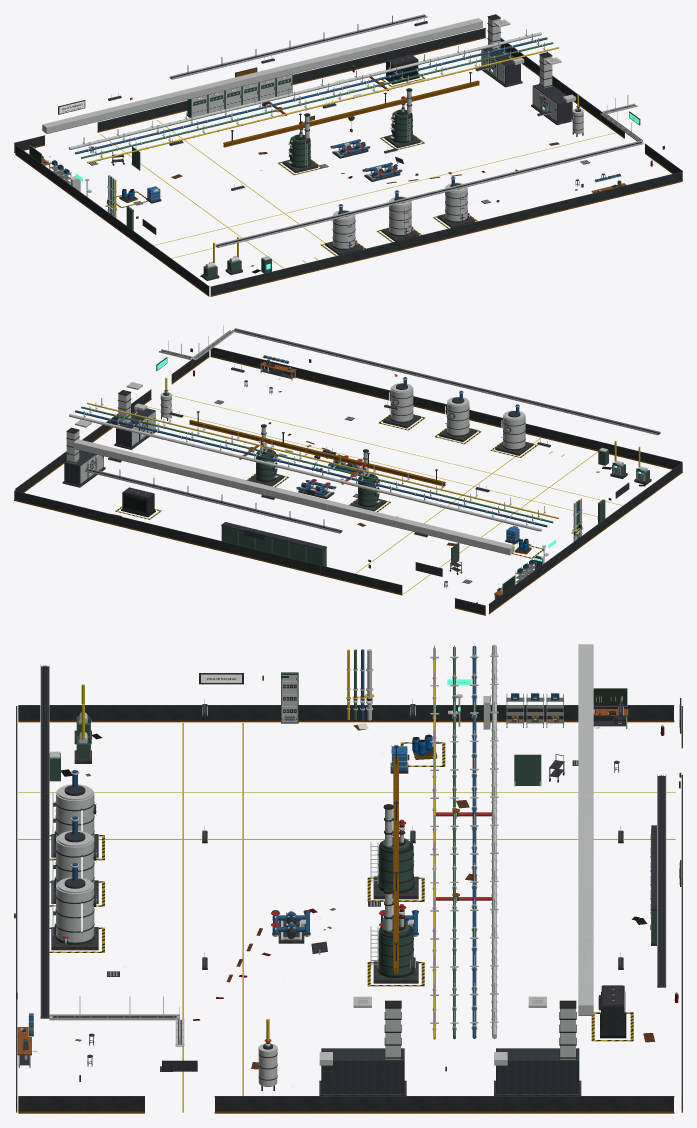
File: maintenance_art.glb
The picture shows the model from 3 angles, top to bottom: view 1: azimuth 30°, elevation 25°; view 2: azimuth 150°, elevation 25°; view 3: azimuth 270°, elevation 25°; orthographic projection. The views are drawn at different scales.
Visible parts, largest first — view 1: MT_Wainscot_TRIM, MT_HVAC_Duct, MT_CableTray_South_CABLE, MT_AHU_02, MT_Monorail_TRIM, MT_AHU_01, MT_CableTray_CABLE, MT_FloorLines_FLOOR_LINE, MT_WaterTank_01, MT_Boiler_01, MT_Boiler_02, MT_WaterTank_03 (+13 smaller); view 2: MT_Wainscot_TRIM, MT_HVAC_Duct, MT_CableTray_South_CABLE, MT_Monorail_TRIM, MT_AHU_02, MT_FloorLines_FLOOR_LINE, MT_AHU_01, MT_CableTray_CABLE, MT_WaterTank_01, MT_WaterTank_03, MT_WaterTank_02, MT_Boiler_01 (+13 smaller); view 3: MT_Wainscot_TRIM, MT_HVAC_Duct, MT_AHU_01, MT_AHU_02, MT_CableTray_South_CABLE, MT_WaterTank_03, MT_Boiler_02, MT_Boiler_01, MT_FloorLines_FLOOR_LINE, MT_WaterTank_01, MT_WaterTank_02, MT_CableTray_CABLE (+12 smaller).
Part boxes in pixels (bbox=[...]): MT_Wainscot_TRIM: bbox=[14, 28, 682, 296]; MT_HVAC_Duct: bbox=[42, 18, 482, 133]; MT_CableTray_South_CABLE: bbox=[215, 140, 643, 247]; MT_AHU_02: bbox=[531, 52, 575, 124]; MT_Monorail_TRIM: bbox=[223, 72, 479, 147]; MT_AHU_01: bbox=[481, 14, 524, 87]; MT_CableTray_CABLE: bbox=[169, 14, 427, 79]; MT_FloorLines_FLOOR_LINE: bbox=[100, 120, 614, 268]; MT_WaterTank_01: bbox=[325, 204, 363, 255]; MT_Boiler_01: bbox=[282, 113, 318, 173]; MT_Boiler_02: bbox=[384, 88, 420, 148]; MT_WaterTank_03: bbox=[437, 176, 475, 227]; MT_Wainscot_TRIM: bbox=[14, 347, 682, 615]; MT_HVAC_Duct: bbox=[73, 439, 514, 555]; MT_CableTray_South_CABLE: bbox=[232, 328, 660, 435]; MT_Monorail_TRIM: bbox=[189, 411, 445, 486]; MT_AHU_02: bbox=[114, 390, 156, 449]; MT_FloorLines_FLOOR_LINE: bbox=[147, 393, 622, 593]; MT_AHU_01: bbox=[62, 427, 105, 487]; MT_CableTray_CABLE: bbox=[84, 468, 342, 533]; MT_WaterTank_01: bbox=[495, 404, 533, 455]; MT_WaterTank_03: bbox=[383, 377, 420, 428]; MT_WaterTank_02: bbox=[439, 390, 477, 441]; MT_Boiler_01: bbox=[350, 449, 386, 511]; MT_Wainscot_TRIM: bbox=[16, 705, 682, 1113]; MT_HVAC_Duct: bbox=[578, 644, 593, 1015]; MT_AHU_01: bbox=[494, 1000, 581, 1095]; MT_AHU_02: bbox=[319, 1000, 406, 1095]; MT_CableTray_South_CABLE: bbox=[40, 664, 49, 1018]; MT_WaterTank_03: bbox=[51, 863, 98, 950]; MT_Boiler_02: bbox=[370, 888, 418, 983]; MT_Boiler_01: bbox=[370, 804, 418, 899]; MT_FloorLines_FLOOR_LINE: bbox=[18, 723, 675, 1112]; MT_WaterTank_01: bbox=[51, 770, 98, 857]; MT_WaterTank_02: bbox=[51, 816, 98, 903]; MT_CableTray_CABLE: bbox=[657, 774, 666, 987].
Bounding box in the file's own units: 55.92 × 5.99 × 40.2.
57 materials, 22 textured.
